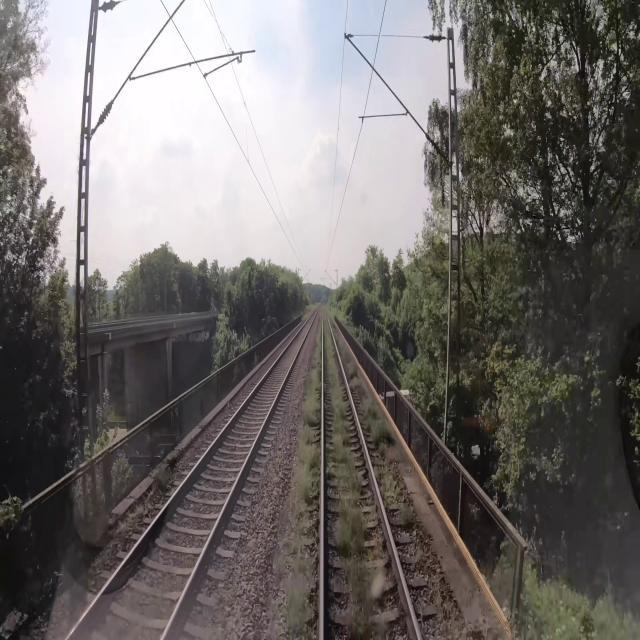Plant: (324, 330, 382, 635), (285, 323, 321, 634), (374, 465, 389, 512)
